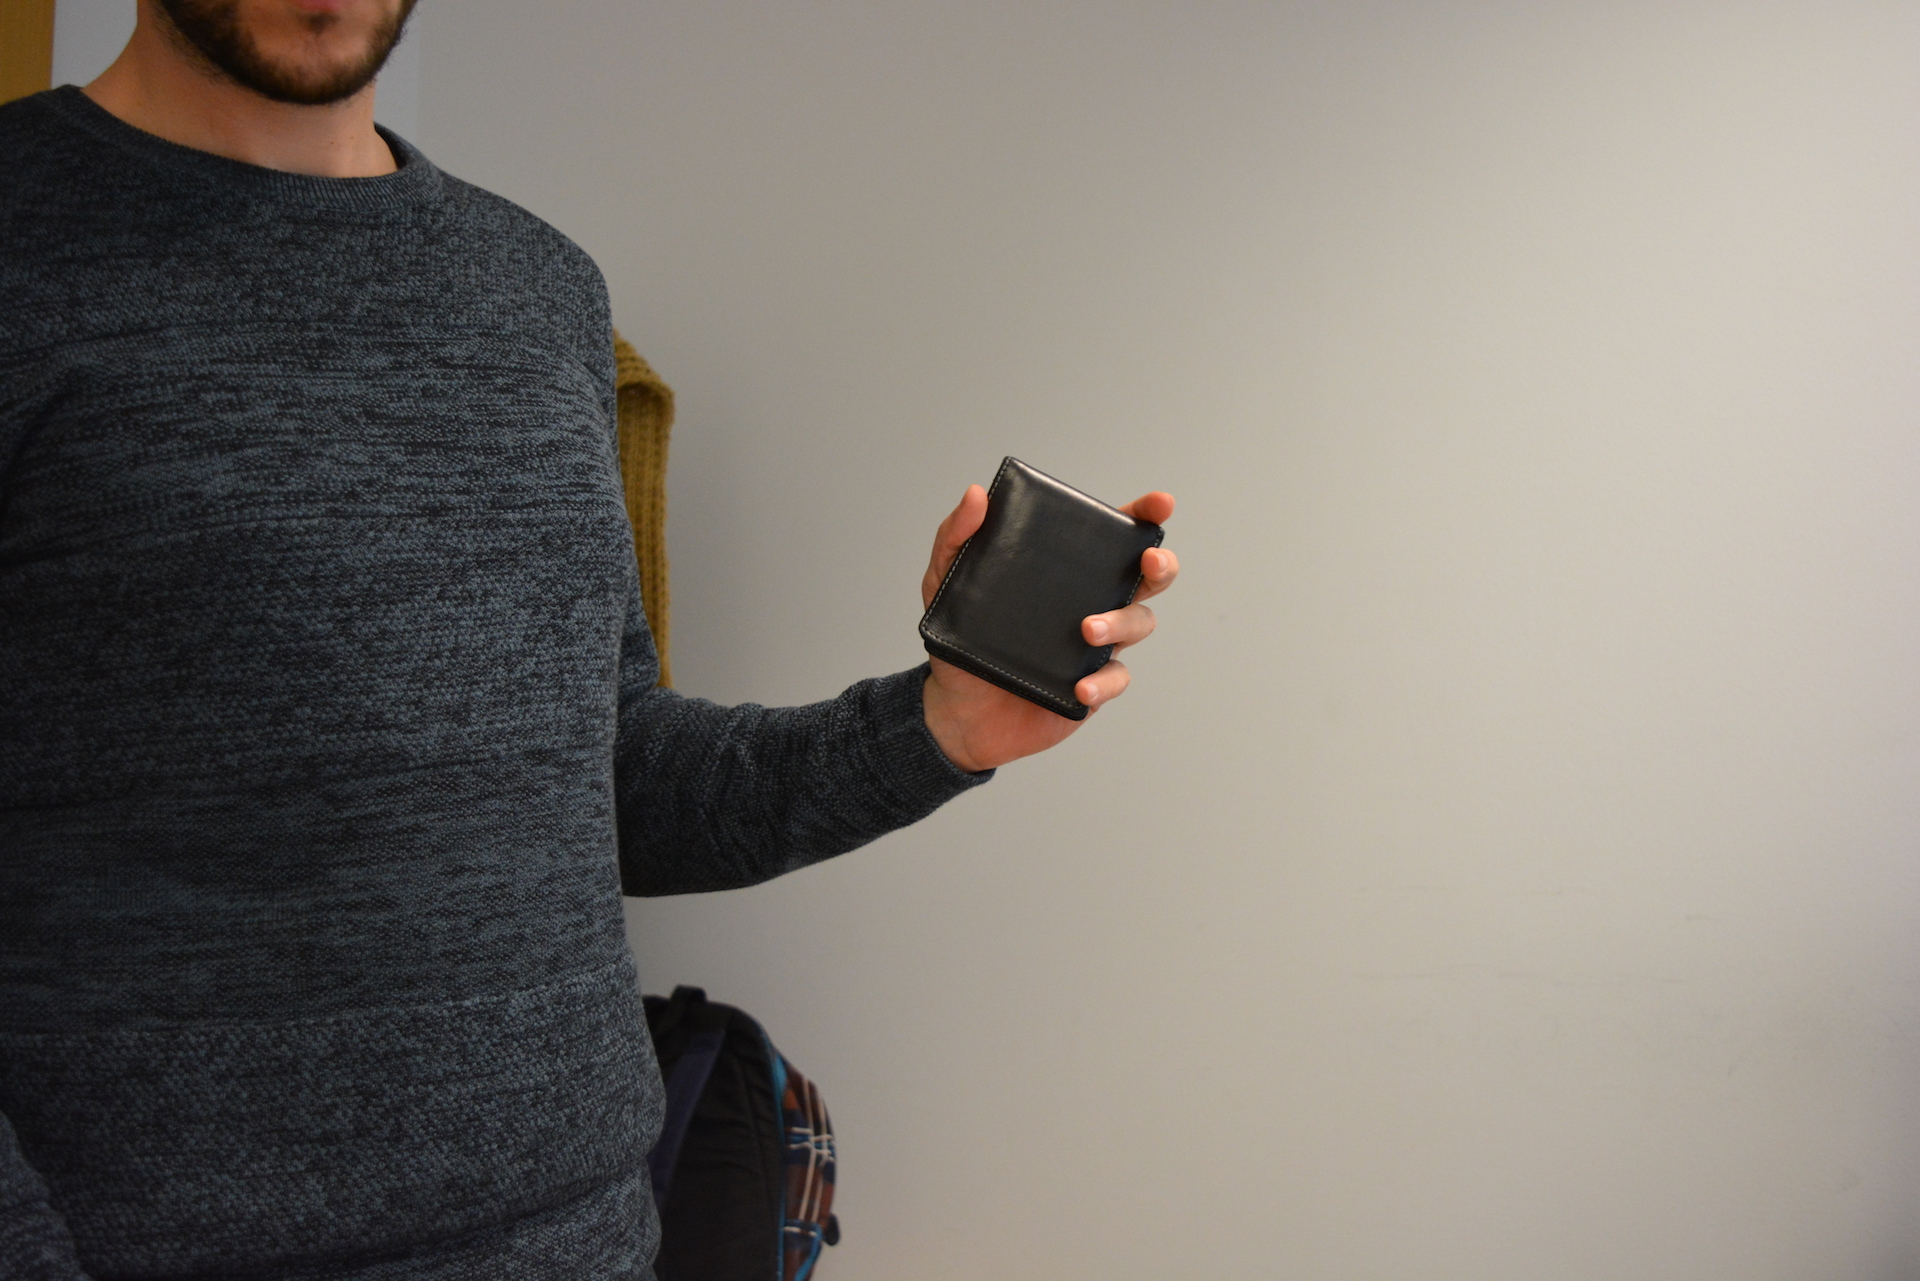monedero: (916, 455, 1167, 723)
